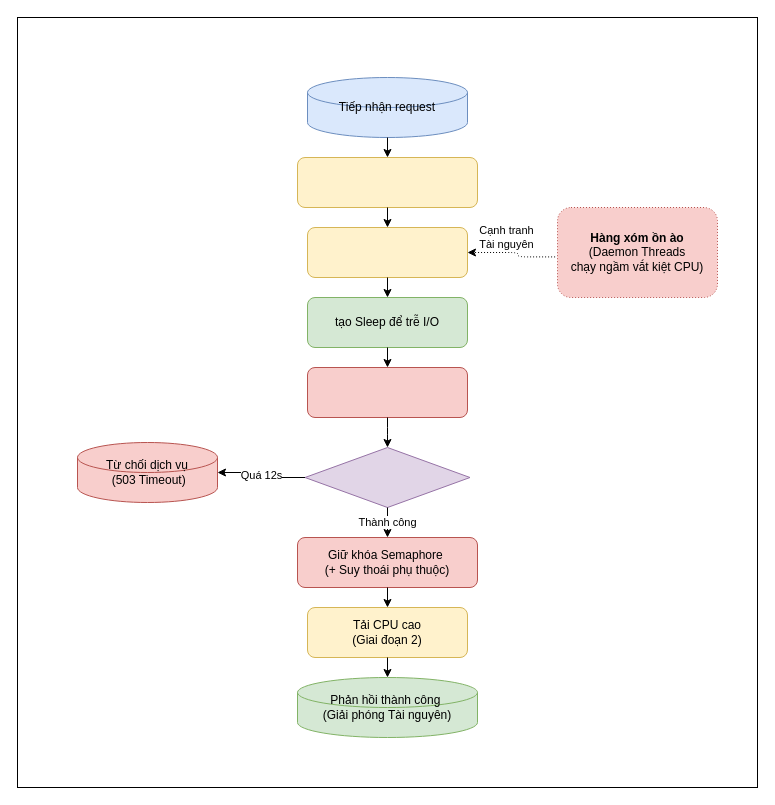
This 775x805 diagram has some shape labels left out. Each missing label, with the centre of its shape:
"cấp phát Semaphore (DB Pool)" goes at (387,477).
"Cấp phát vfa truy xuấy Heap" goes at (387,182).
"Suy thoái mạng" goes at (387,392).
"Tải CPU cao (Giai đoạn 1)" goes at (387,252).
